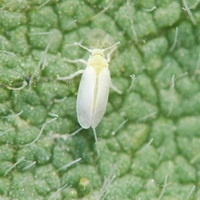insect: (57, 42, 121, 141)
